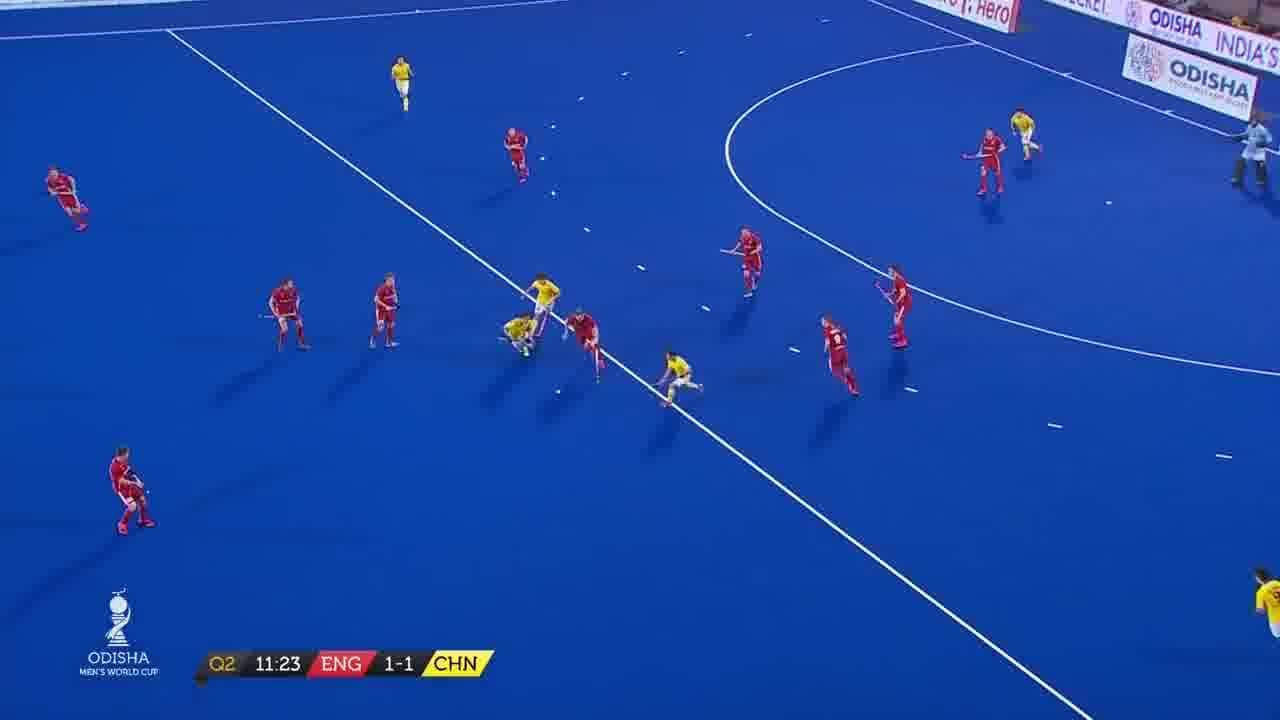ball: (550, 388, 564, 397)
